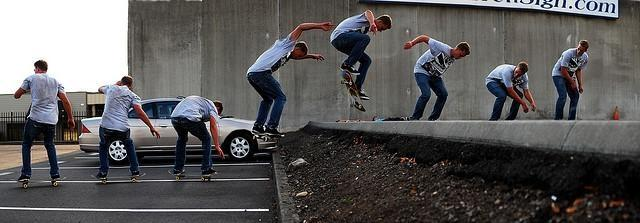car: (79, 98, 278, 164)
